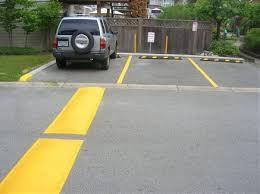Bump: (200, 56, 245, 64), (137, 53, 182, 60)
